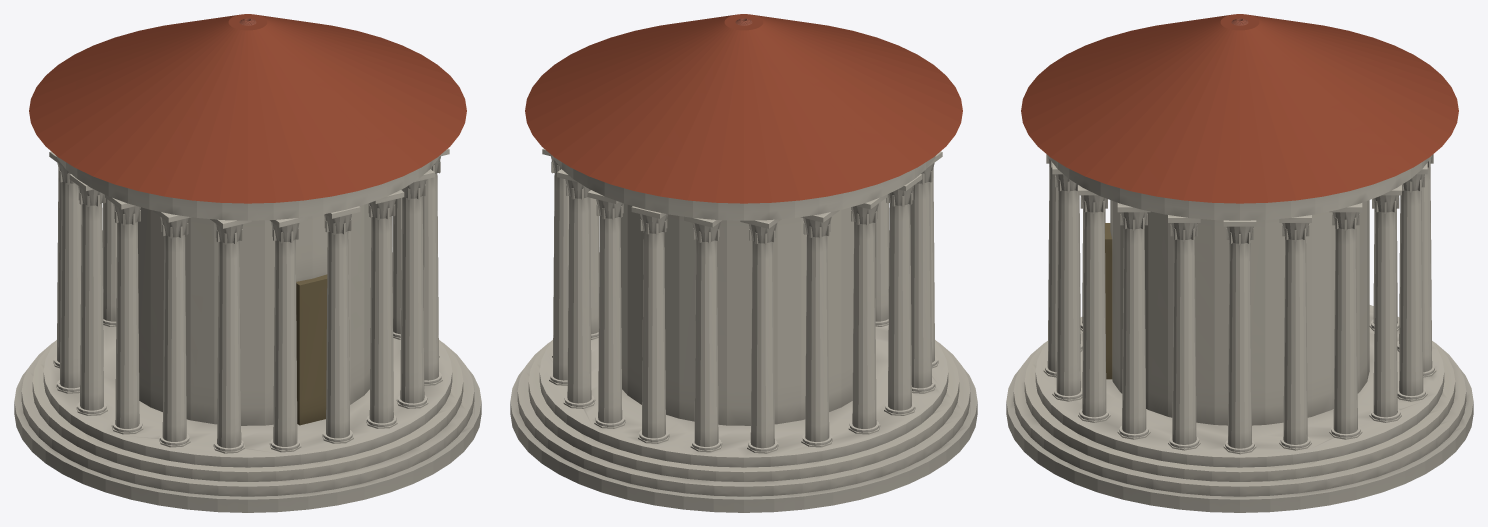
Rendered from temple-of-hercules-victor.glb.
3 renders of one model, left to right at view 1: azimuth 30°, elevation 25°; view 2: azimuth 150°, elevation 25°; view 3: azimuth 270°, elevation 25°, orthographic.
Visible parts, largest first — view 1: p1_columns, p2_roof, p0_base; view 2: p1_columns, p2_roof, p0_base; view 3: p1_columns, p2_roof, p0_base.
Part boxes in pixels (x1,y1,x2,y2): p1_columns: [49, 148, 449, 453]; p2_roof: [29, 14, 466, 220]; p0_base: [14, 325, 481, 512]; p1_columns: [542, 148, 942, 453]; p2_roof: [525, 14, 962, 220]; p0_base: [510, 325, 977, 512]; p1_columns: [1043, 154, 1436, 454]; p2_roof: [1021, 14, 1458, 220]; p0_base: [1006, 305, 1473, 512].
Bounding box in the file's own units: 19.2 × 17.88 × 19.2.
